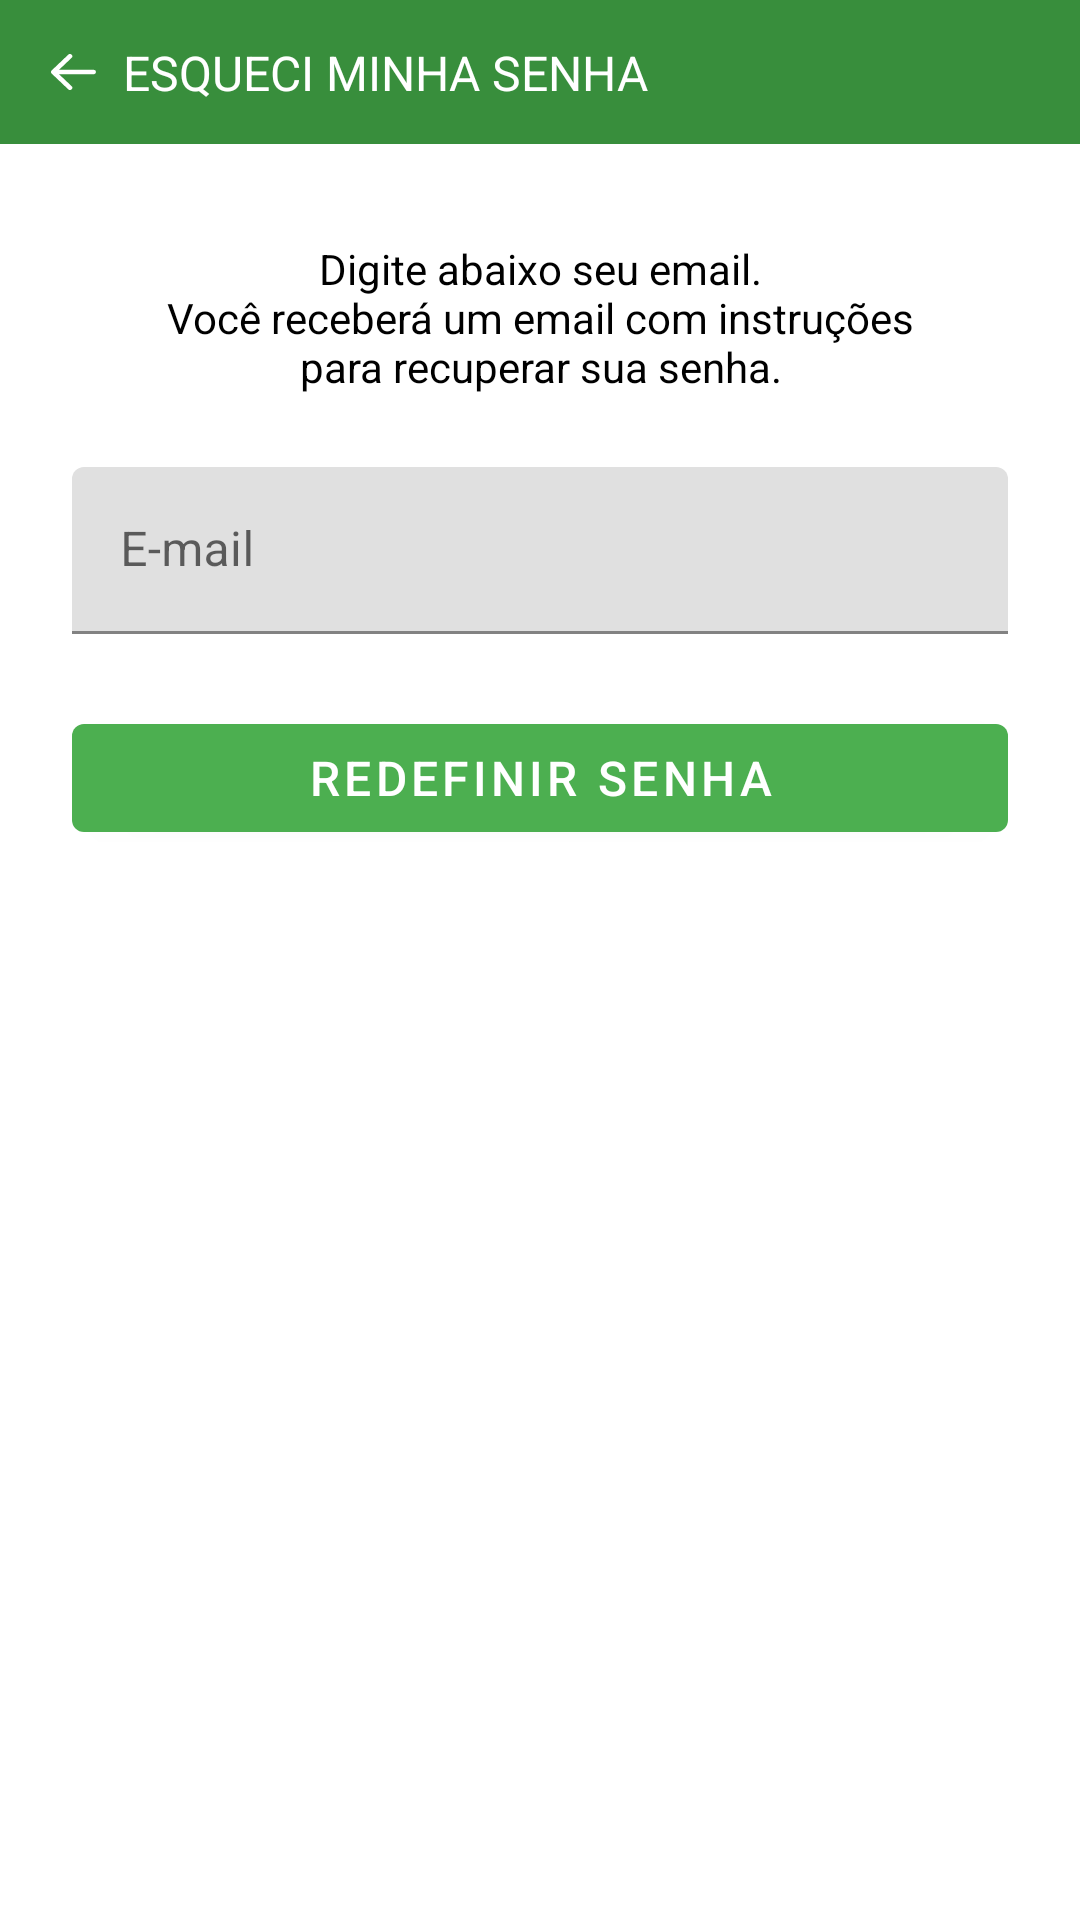

Icon bounding boxes for this 1080px x 1920px phone screenshot, format (x1, y1, x2, y2):
arrow back: (51, 54, 96, 90)
